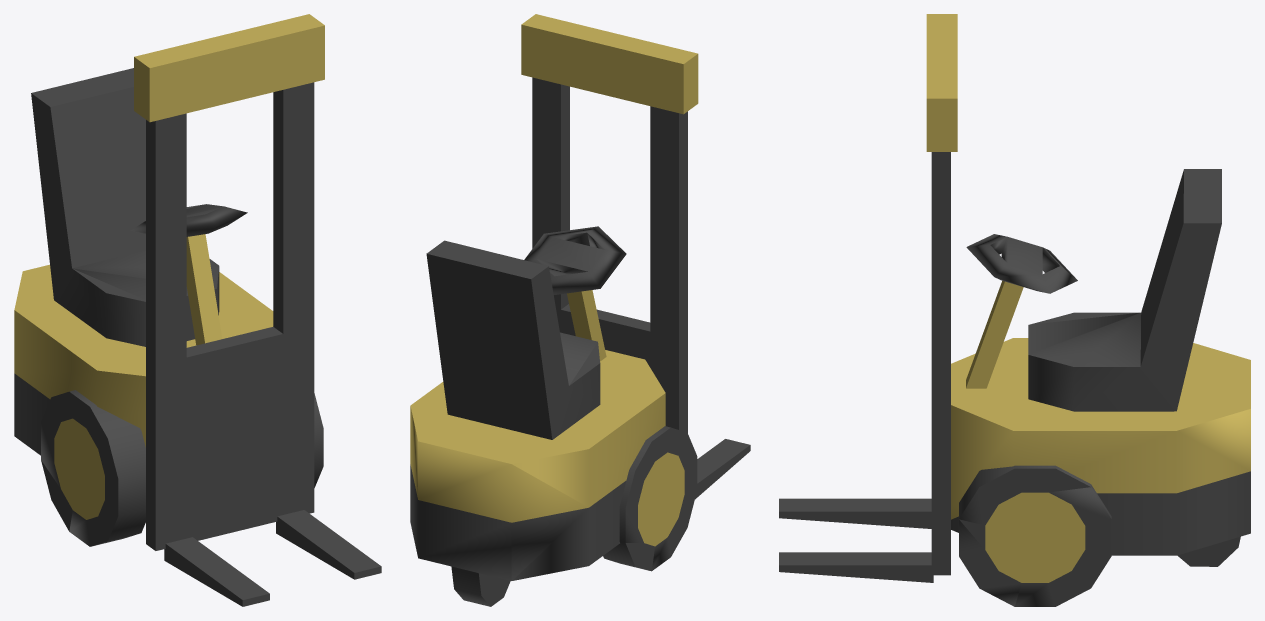
The model's file is forklift.dae.
3 views of the same model, side by side, from view 1: azimuth 30°, elevation 25°; view 2: azimuth 150°, elevation 25°; view 3: azimuth 270°, elevation 25° (orthographic). The views are drawn at different scales.
Visible parts, largest first — view 1: polymsh_Pts_Material__2__Surf, Scene_Root_Shape_Coord_Material__1__Surf; view 2: polymsh_Pts_Material__2__Surf, Scene_Root_Shape_Coord_Material__1__Surf; view 3: polymsh_Pts_Material__2__Surf, Scene_Root_Shape_Coord_Material__1__Surf.
Boxes of the visible parts, x1=… form: polymsh_Pts_Material__2__Surf: x1=14, y1=68, x2=381, y2=606; Scene_Root_Shape_Coord_Material__1__Surf: x1=14, y1=14, x2=324, y2=519; polymsh_Pts_Material__2__Surf: x1=410, y1=77, x2=750, y2=606; Scene_Root_Shape_Coord_Material__1__Surf: x1=410, y1=14, x2=698, y2=546; polymsh_Pts_Material__2__Surf: x1=779, y1=152, x2=1250, y2=606; Scene_Root_Shape_Coord_Material__1__Surf: x1=926, y1=14, x2=1250, y2=582.
Bounding box in the file's own units: 10.04 × 23.73 × 20.22.
